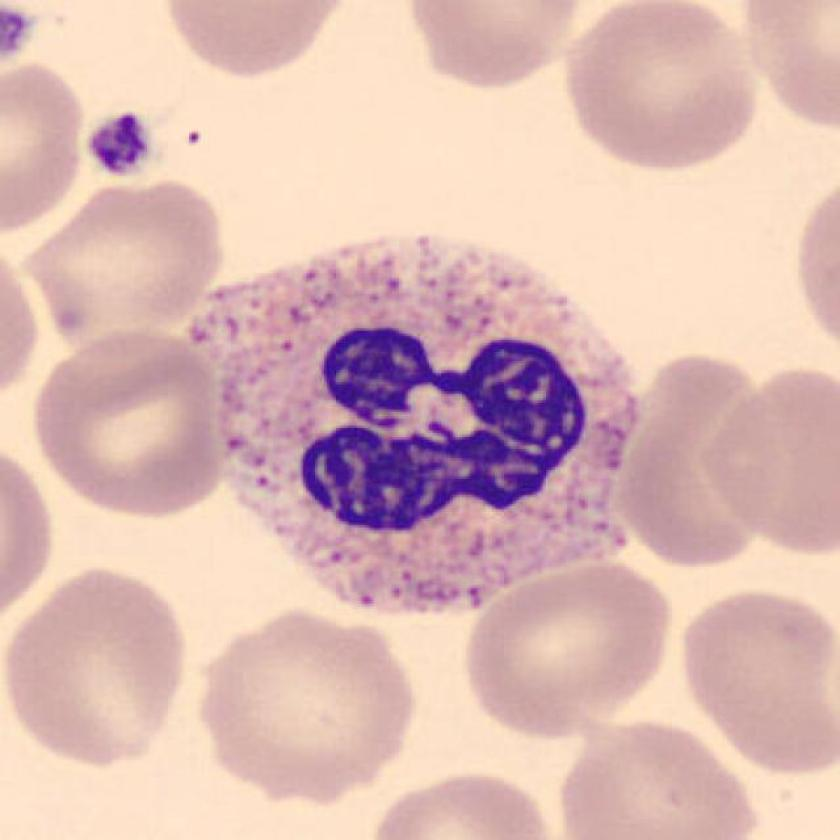neutrophil: (219, 232, 645, 609)
